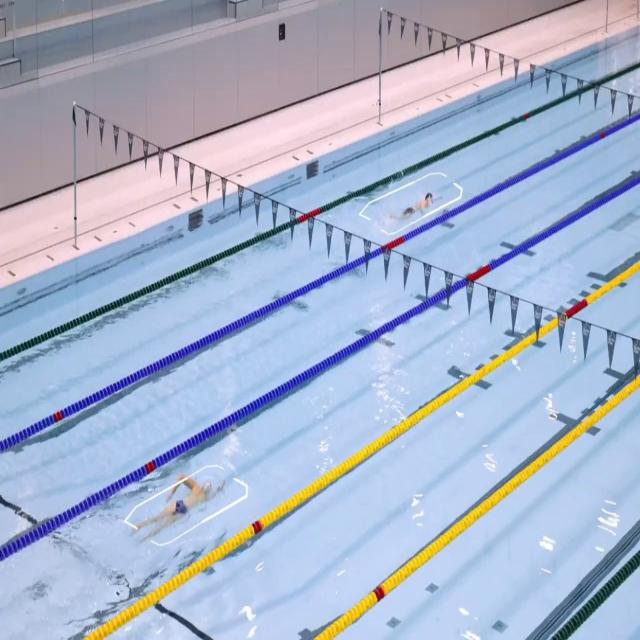Swimming: (130, 473, 226, 545), (390, 190, 442, 222)
